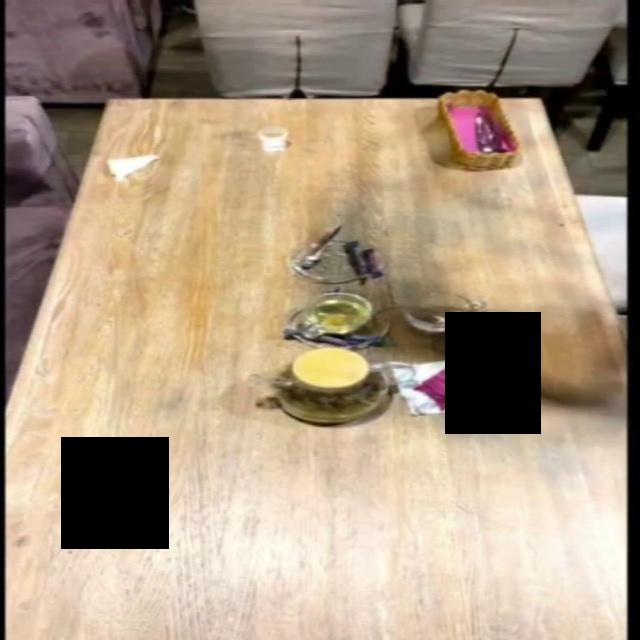tea: (262, 345, 437, 414)
